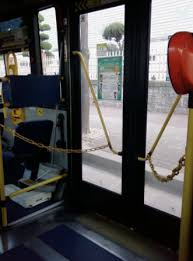exit: (64, 1, 193, 245)
